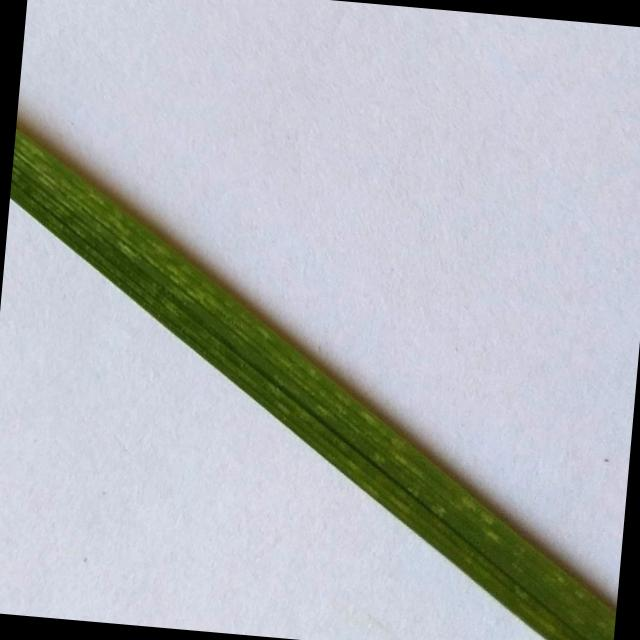Rice_Healthy: (9, 120, 616, 640)
